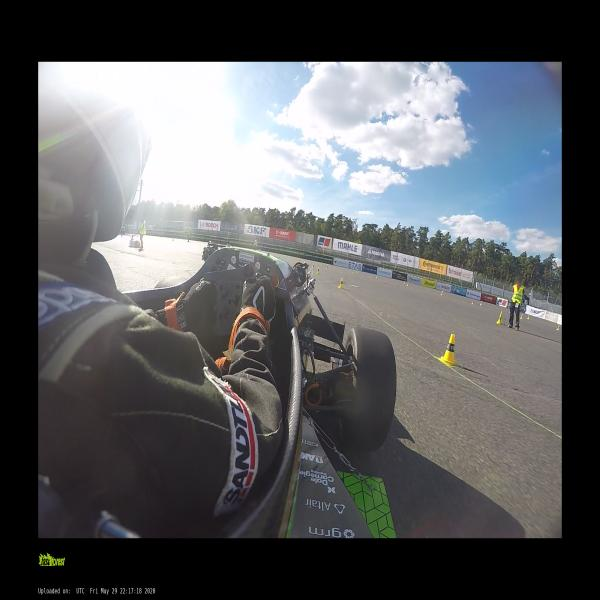yellow_cone: (440, 333, 458, 365), (496, 311, 503, 324), (338, 278, 344, 289), (316, 268, 320, 274), (311, 263, 315, 269), (525, 315, 530, 319), (520, 314, 523, 320), (556, 326, 560, 330), (471, 300, 474, 304), (321, 262, 324, 266), (479, 301, 482, 305), (352, 270, 354, 274), (376, 275, 378, 279), (441, 291, 443, 295), (407, 282, 409, 286), (326, 265, 328, 269), (404, 280, 406, 284)
